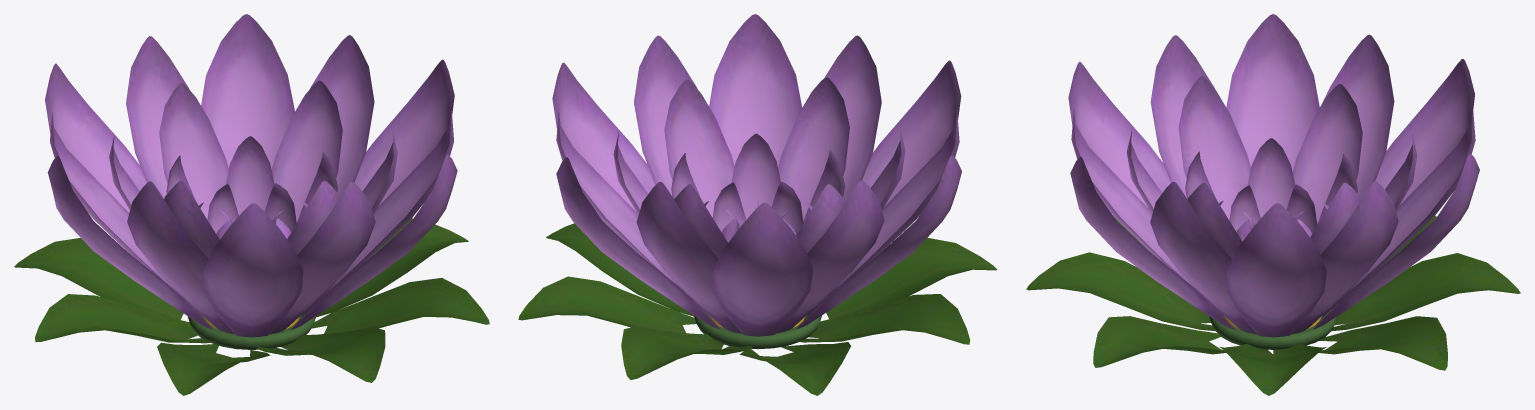
3 renders of one model, left to right at view 1: azimuth 30°, elevation 25°; view 2: azimuth 150°, elevation 25°; view 3: azimuth 270°, elevation 25°, orthographic.
Visible parts, largest first — view 1: 12768caa; view 2: 12768caa; view 3: 12768caa.
Part boxes in pixels (<box>): 12768caa: <box>14,14,489,395</box>; 12768caa: <box>518,14,997,395</box>; 12768caa: <box>1026,14,1520,395</box>.
Size of the model in its own units: 0.1447 by 0.0716 by 0.1447.
Materials: 1 (1 with a texture image).
